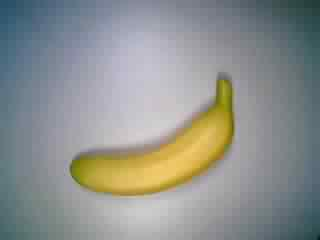banana: (67, 75, 237, 197)
